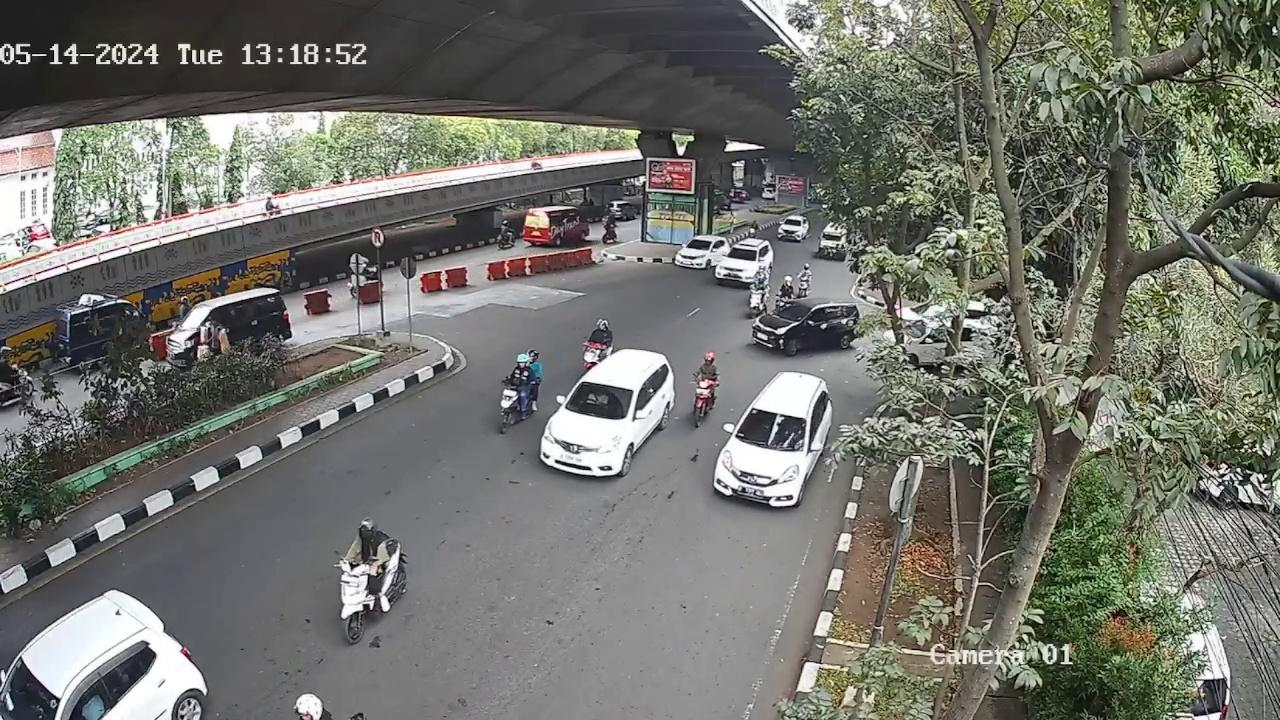pakai: (584, 390, 609, 410)
windshield: (733, 406, 808, 455), (569, 381, 633, 419)
